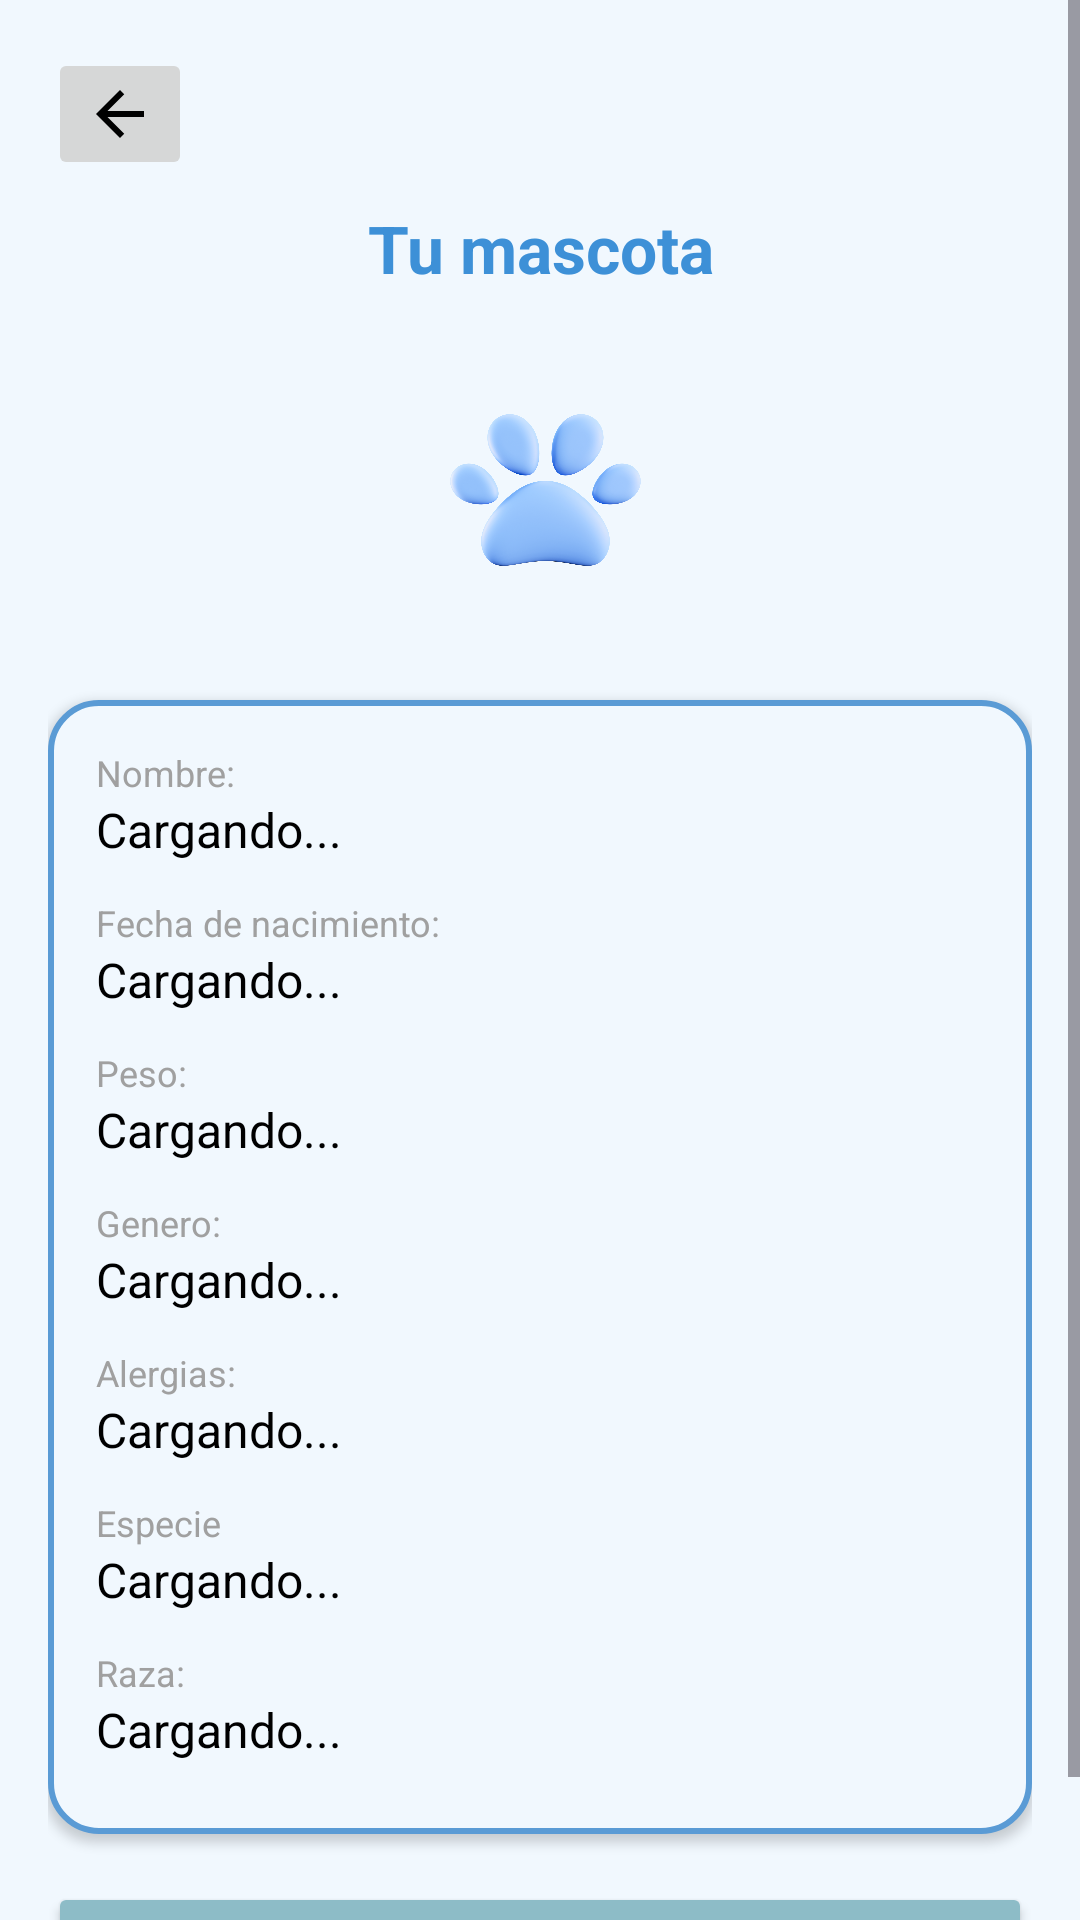

Screen size 1080w x 1920h. Icon name, then its box in pixels as [left=x1, top=y1, right=x2, bottom=y2]:
Botón de retroceso: [left=60, top=66, right=180, bottom=162]
